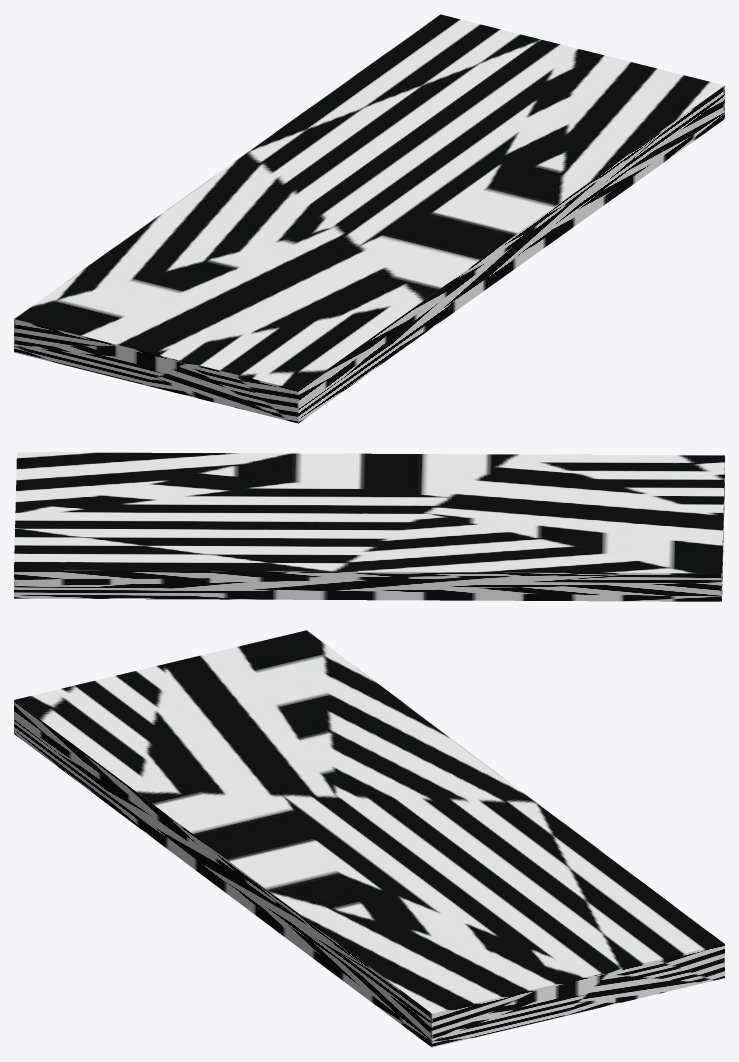
3 views of the same model, one above another, from view 1: azimuth 30°, elevation 25°; view 2: azimuth 150°, elevation 25°; view 3: azimuth 270°, elevation 25° (orthographic). The views are drawn at different scales.
Visible parts, largest first — view 1: Cube.009; view 2: Cube.009; view 3: Cube.009.
Part boxes in pixels (x1=…): Cube.009: x1=14, y1=14, x2=724, y2=423; Cube.009: x1=14, y1=452, x2=724, y2=601; Cube.009: x1=14, y1=630, x2=724, y2=1047.
Bounding box in the file's own units: 8.65 × 0.3583 × 6.78.
1 material, 1 textured.
